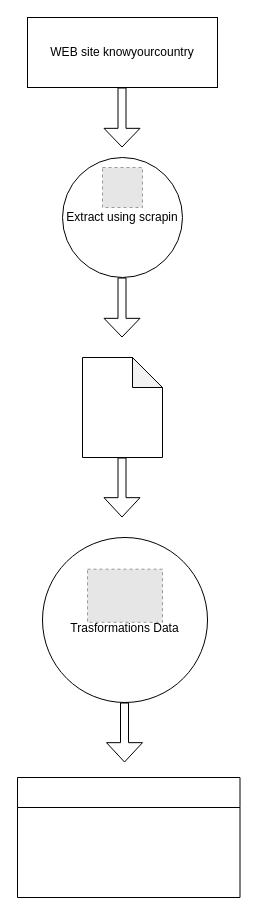
Some shapes in this 258 by 915 pixel diagram are drawn without their labels. Grey dashed boxes stand in for pictures. Here are the shapes that lost their labels. From the top down, the centre of each, then its label:
point 122,407: CSV
point 128,837: API
